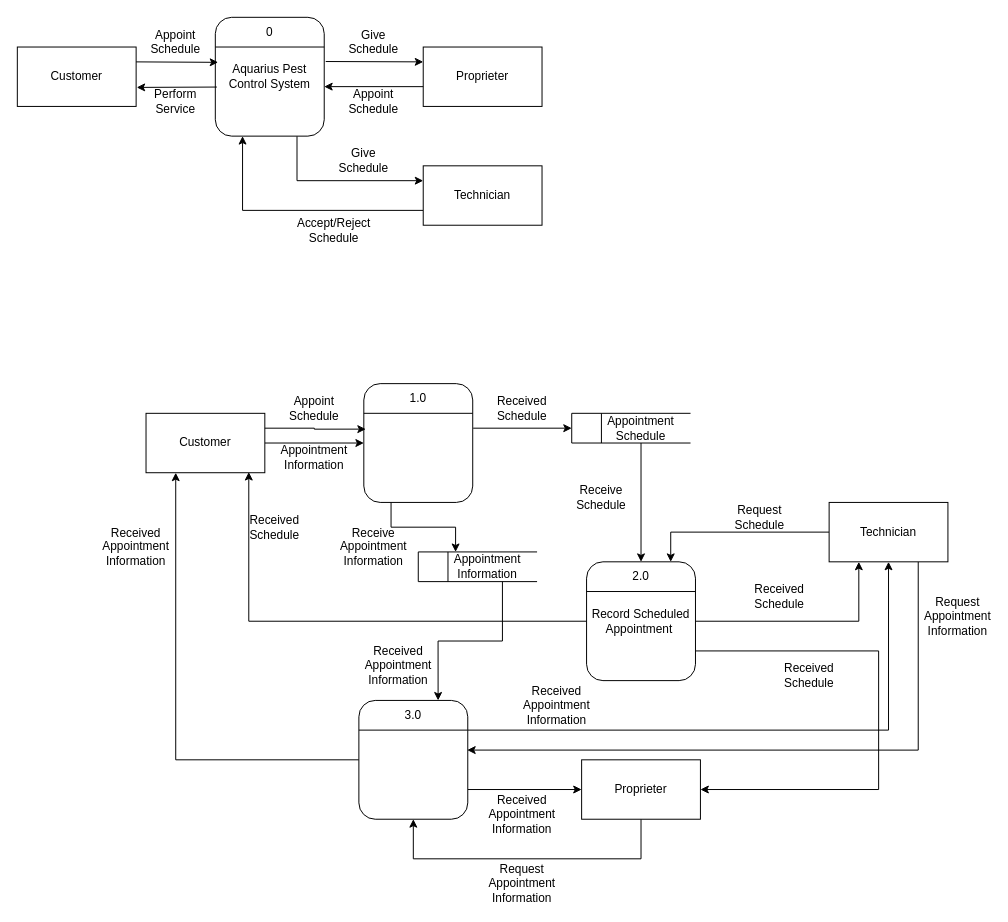
The diagram is 1008 pixels wide and 922 high, and some of its shapes have lost their labels. Each missing label, with the box of its shape:
A1: (571, 412, 691, 443)
A2: (417, 551, 537, 582)
Receive Appointment Schedule: (363, 383, 473, 502)
Record Appointment Information: (358, 699, 468, 819)
